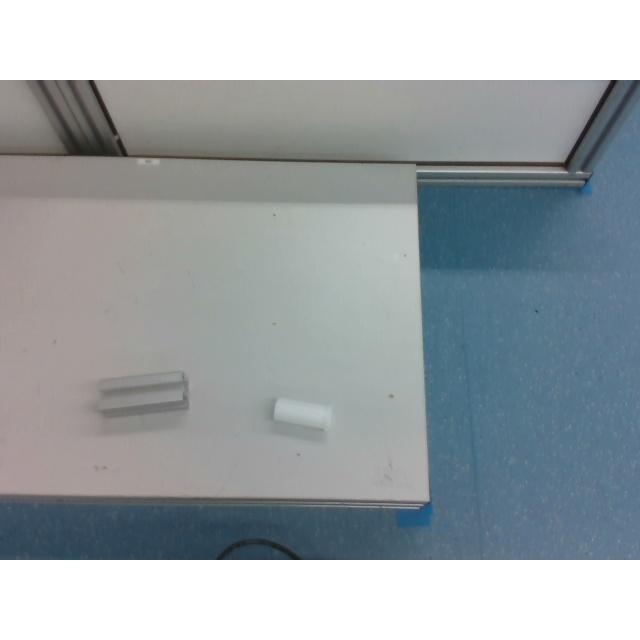S40_40_G: (96, 370, 188, 414)
Spacer: (273, 397, 331, 429)
